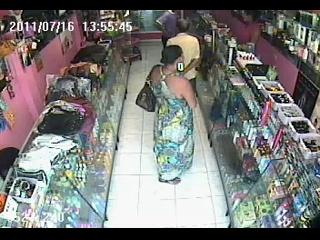Normal: (145, 46, 198, 184), (164, 19, 203, 93), (154, 10, 180, 48), (135, 80, 157, 112)
